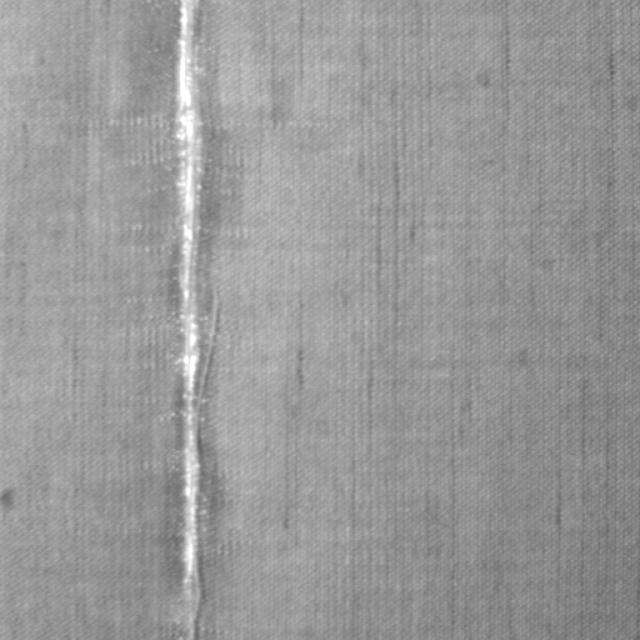hole: (162, 0, 223, 639)
